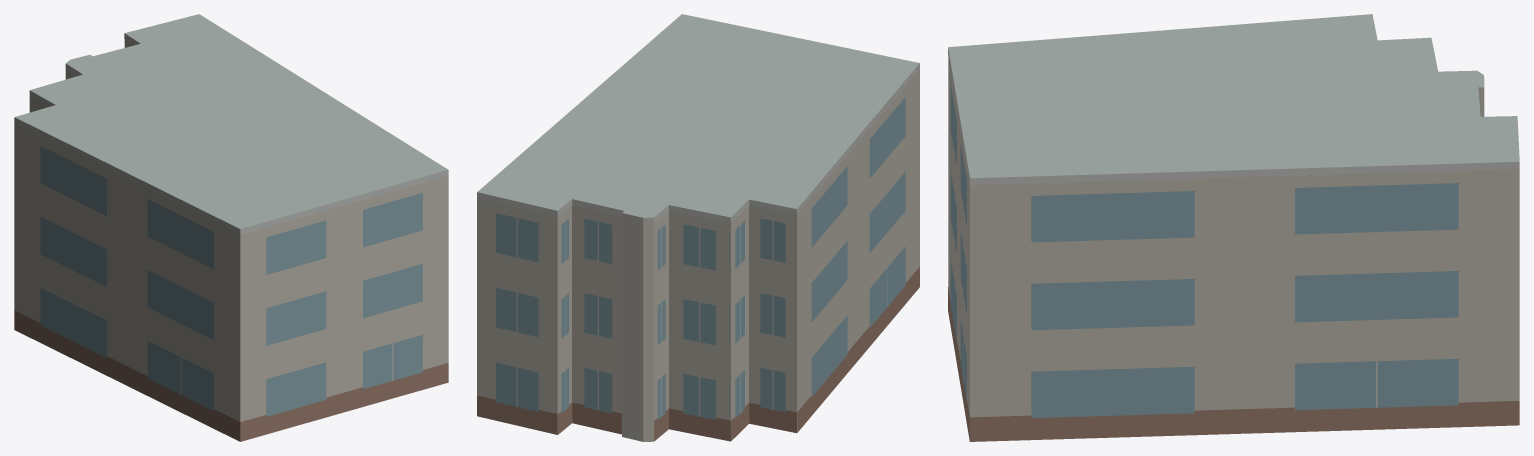
The model's file is survey-upis-32927844.glb.
3 views of the same model, side by side, from view 1: azimuth 30°, elevation 25°; view 2: azimuth 150°, elevation 25°; view 3: azimuth 270°, elevation 25° (orthographic). The views are drawn at different scales.
Visible parts, largest first — view 1: survey-upis-32927844.tmp; view 2: survey-upis-32927844.tmp; view 3: survey-upis-32927844.tmp.
Boxes of the visible parts, bbox=[...] form: survey-upis-32927844.tmp: bbox=[14, 14, 448, 441]; survey-upis-32927844.tmp: bbox=[477, 14, 919, 441]; survey-upis-32927844.tmp: bbox=[948, 14, 1519, 441].
Bounding box in the file's own units: 12.24 × 9.15 × 18.
